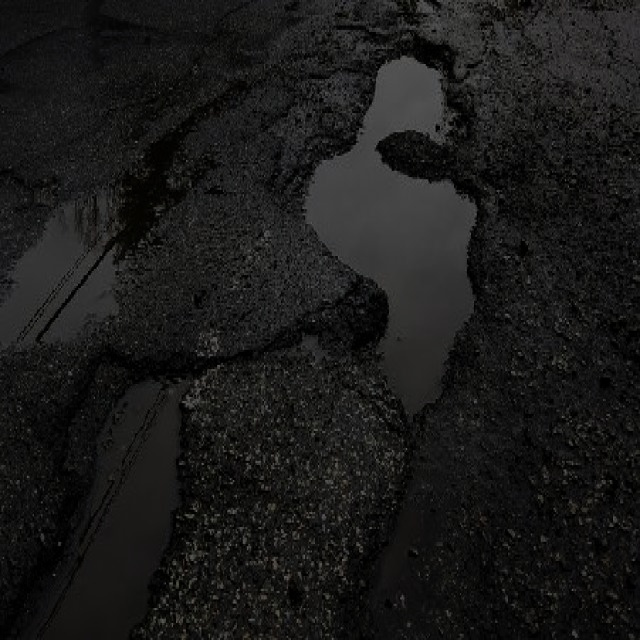Pothole: (294, 28, 486, 426), (0, 341, 217, 638)
